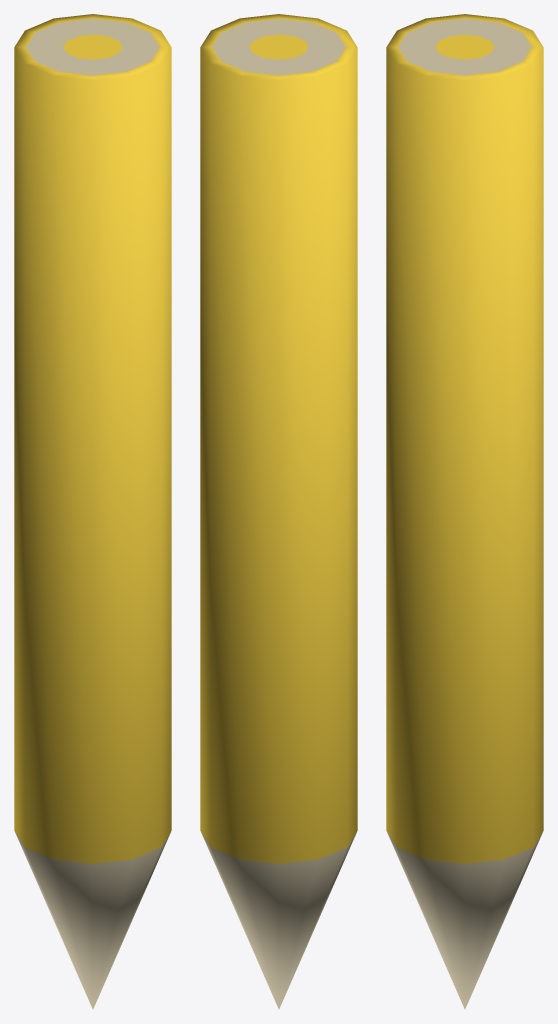
The model's file is Lapis4.fbx.
3 views of the same model, side by side, from view 1: azimuth 30°, elevation 25°; view 2: azimuth 150°, elevation 25°; view 3: azimuth 270°, elevation 25° (orthographic).
Visible parts, largest first — view 1: Lapis; view 2: Lapis; view 3: Lapis.
Boxes of the visible parts, <box> form: Lapis: <box>14,14,171,1009</box>; Lapis: <box>200,14,357,1009</box>; Lapis: <box>386,14,543,1009</box>.
Bounding box in the file's own units: 76.18 × 515 × 76.18.
Materials: 1 (1 with a texture image).
